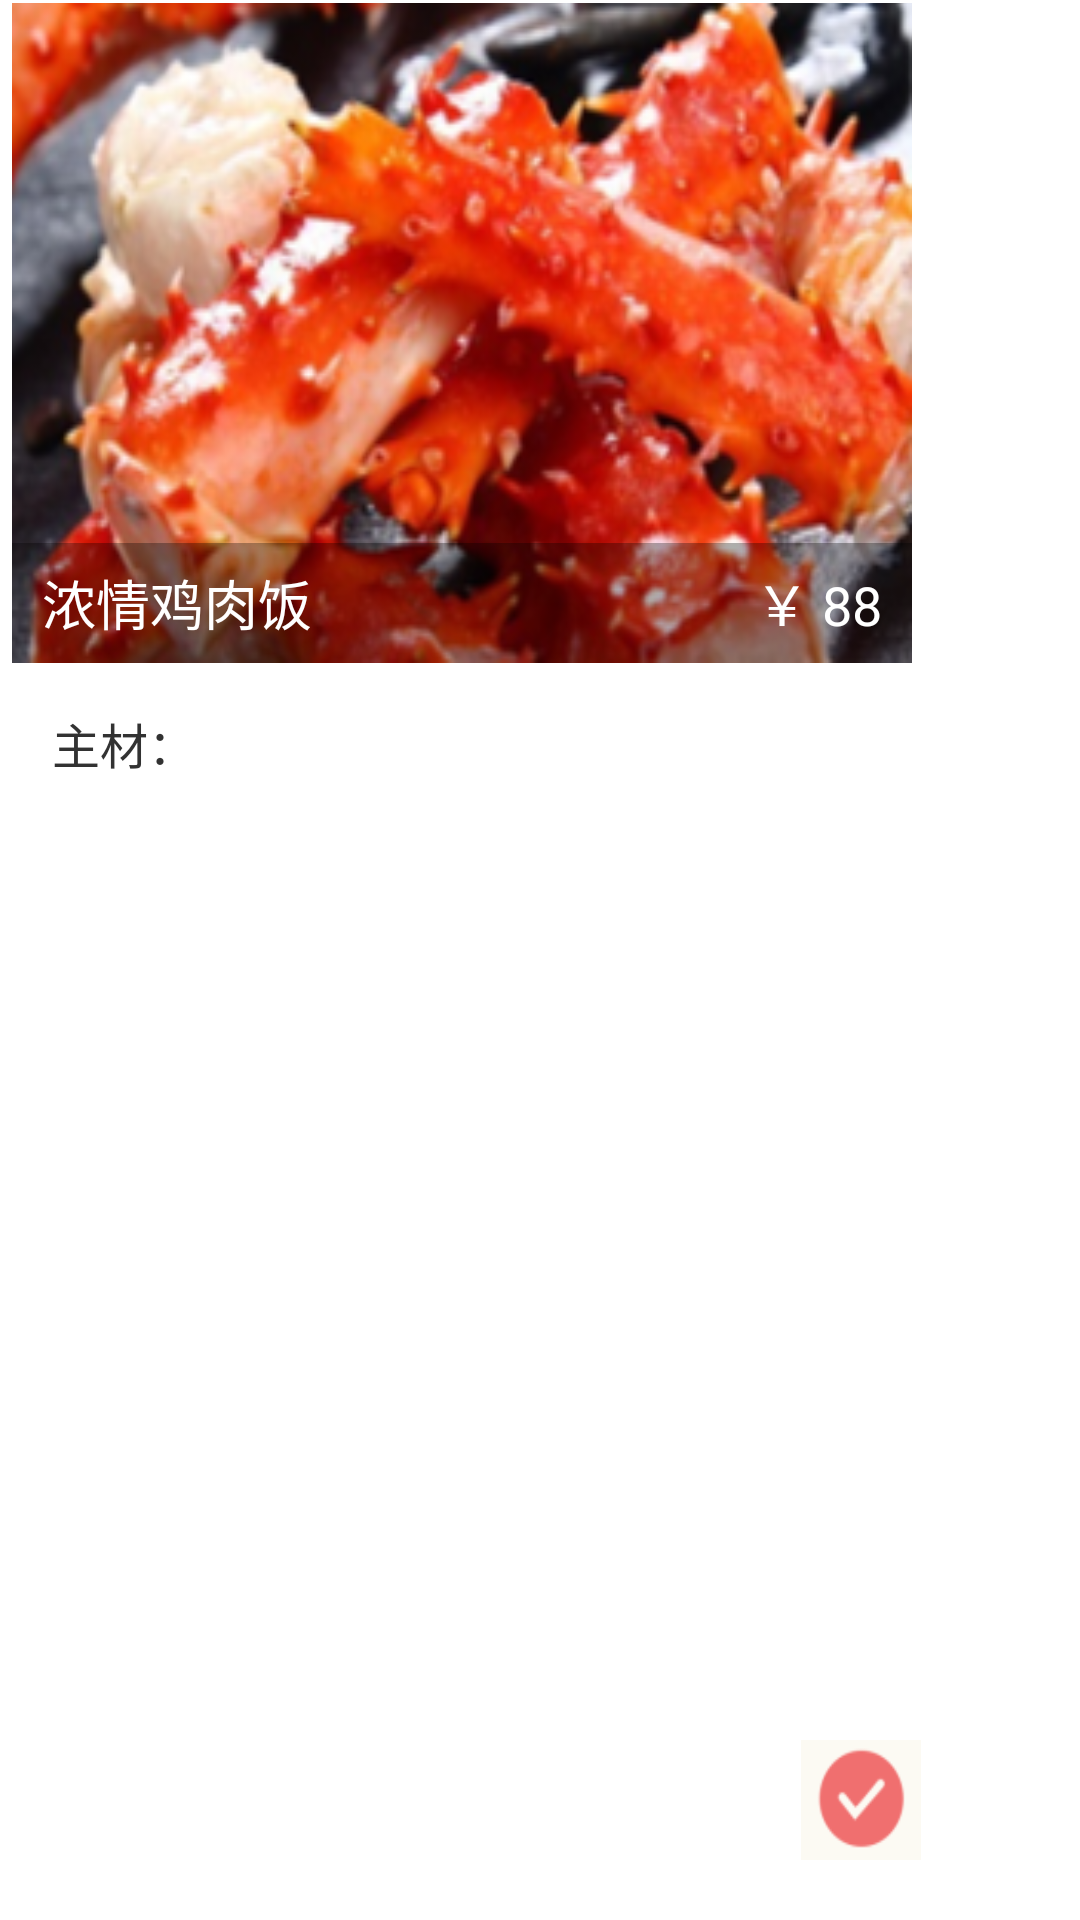

Screen size 1080w x 1920h. Icon name, then its center in pixels as [x,y]:
select: [861,1798]
